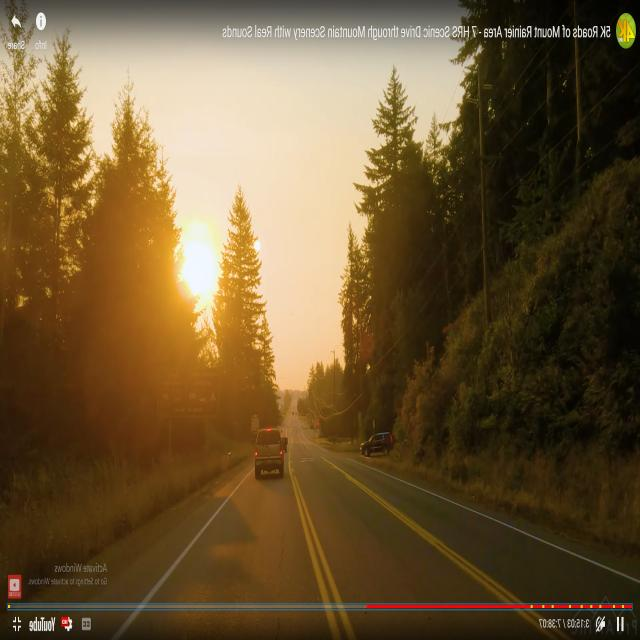sun: (173, 218, 220, 304)
